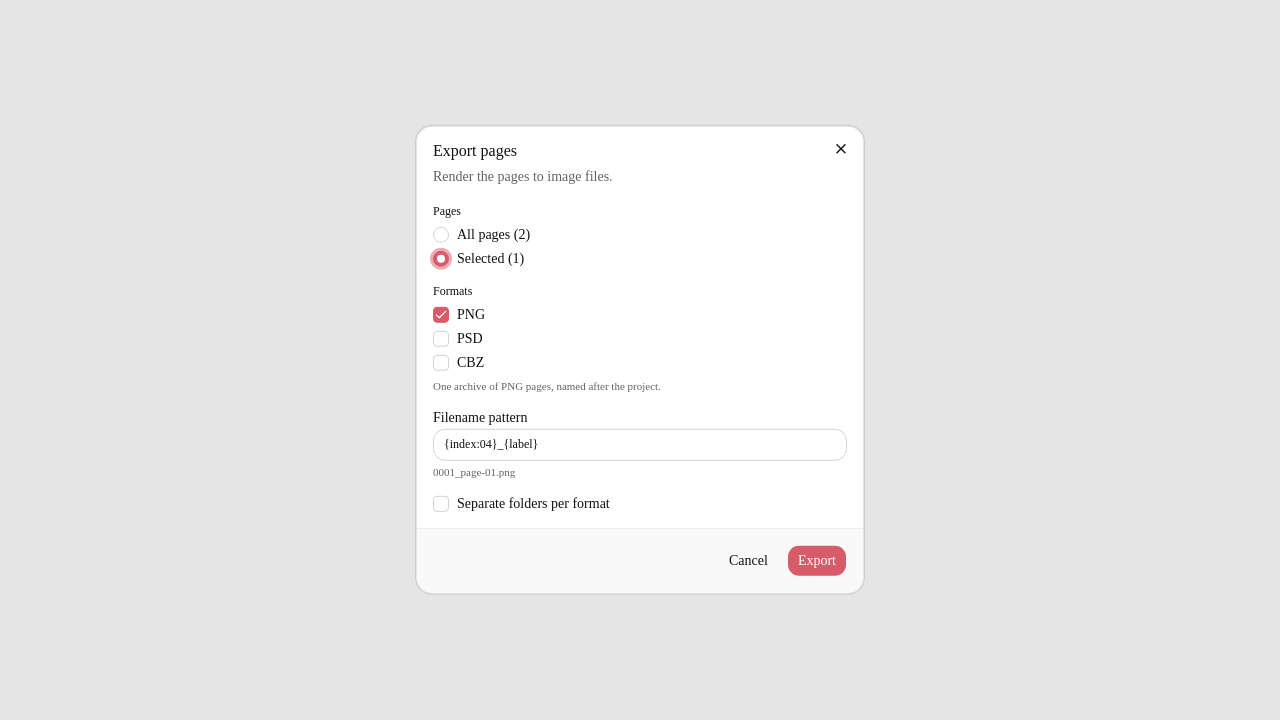
Test: ExportDialog › 형식을 모두 끄면 시작할 수 없다
Click the 1st checkbox named "png": point(441, 315) [433,307,449,323]
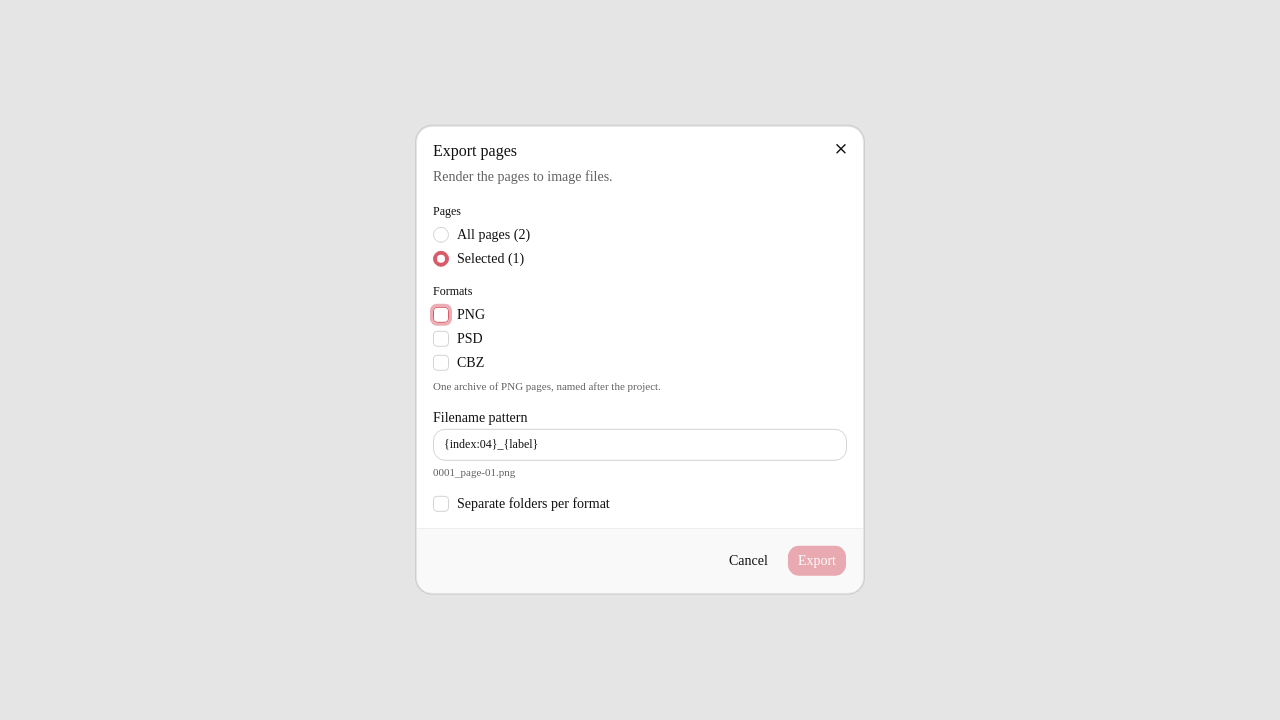
Expected: the button "Export" is disabled, [787,545,847,577]
